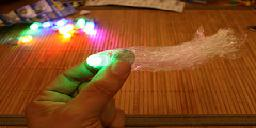LED: (25, 17, 107, 41), (84, 52, 110, 71)
